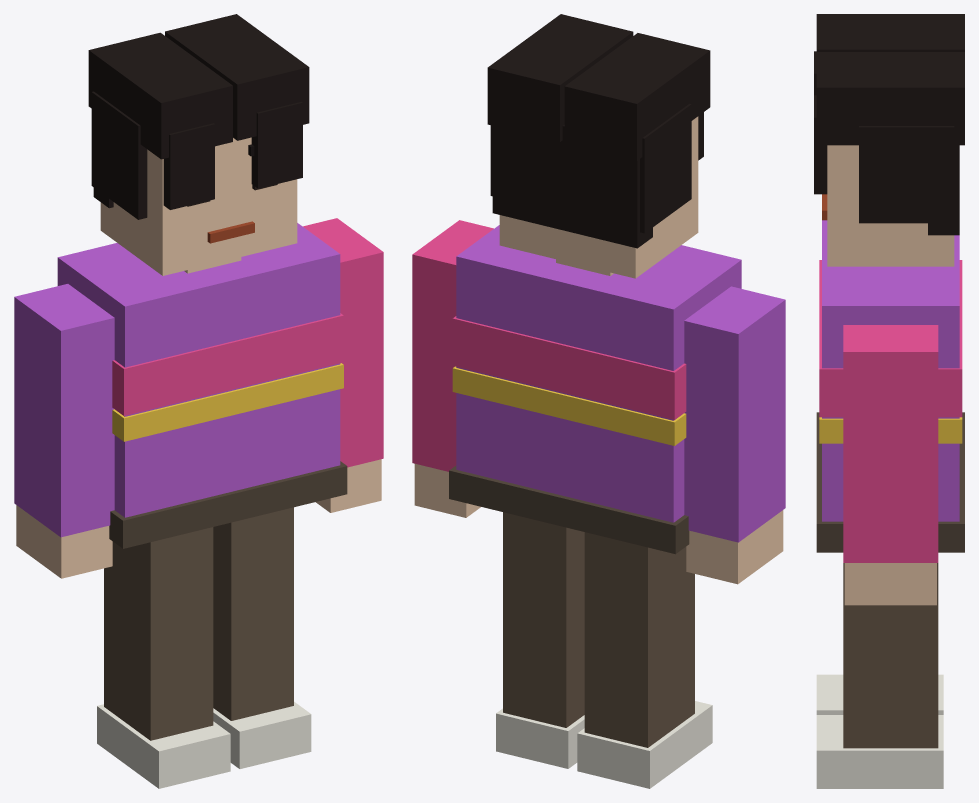
File: middle_home_student_0.glb
3 renders of one model, left to right at view 1: azimuth 30°, elevation 25°; view 2: azimuth 150°, elevation 25°; view 3: azimuth 270°, elevation 25°, orthographic. The views are drawn at different scales.
Visible parts, largest first — view 1: Box9, Box7, Box5, Box1, Box14, Box23, Box10, Box3, Box20, Box12, Box6, Box11 (+6 smaller); view 2: Box9, Box7, Box5, Box1, Box26, Box23, Box10, Box3, Box20, Box12, Box14, Box11 (+5 smaller); view 3: Box3, Box9, Box1, Box20, Box22, Box14, Box2, Box23, Box4, Box10, Box12, Box6 (+3 smaller).
Part boxes in pixels (left/top/right/bottom): Box9: left=57, top=223, right=340, bottom=517; Box7: left=14, top=284, right=114, bottom=537; Box5: left=104, top=527, right=213, bottom=740; Box1: left=213, top=507, right=293, bottom=720; Box14: left=100, top=137, right=297, bottom=275; Box23: left=88, top=32, right=232, bottom=159; Box10: left=112, top=313, right=343, bottom=415; Box3: left=303, top=218, right=383, bottom=467; Box20: left=165, top=14, right=309, bottom=140; Box12: left=109, top=461, right=347, bottom=548; Box6: left=97, top=704, right=230, bottom=788; Box11: left=112, top=363, right=343, bottom=441; Box9: left=456, top=225, right=741, bottom=522; Box7: left=684, top=286, right=785, bottom=542; Box5: left=584, top=532, right=694, bottom=747; Box1: left=503, top=512, right=584, bottom=727; Box26: left=492, top=125, right=652, bottom=248; Box23: left=564, top=33, right=710, bottom=160; Box10: left=452, top=316, right=686, bottom=419; Box3: left=412, top=220, right=493, bottom=471; Box20: left=487, top=14, right=633, bottom=141; Box12: left=449, top=465, right=689, bottom=554; Box14: left=499, top=116, right=698, bottom=278; Box11: left=452, top=366, right=686, bottom=445; Box3: left=843, top=325, right=938, bottom=562; Box9: left=822, top=220, right=959, bottom=521; Box1: left=843, top=563, right=938, bottom=748; Box20: left=816, top=52, right=964, bottom=145; Box22: left=859, top=126, right=954, bottom=223; Box14: left=827, top=145, right=954, bottom=266; Box2: left=816, top=715, right=943, bottom=788; Box23: left=816, top=14, right=964, bottom=51; Box4: left=844, top=563, right=936, bottom=605; Box10: left=819, top=260, right=962, bottom=417; Box12: left=816, top=412, right=964, bottom=552; Box6: left=816, top=674, right=943, bottom=714.
Size of the model in its own units: 0.756 by 1.53 by 0.2993.
